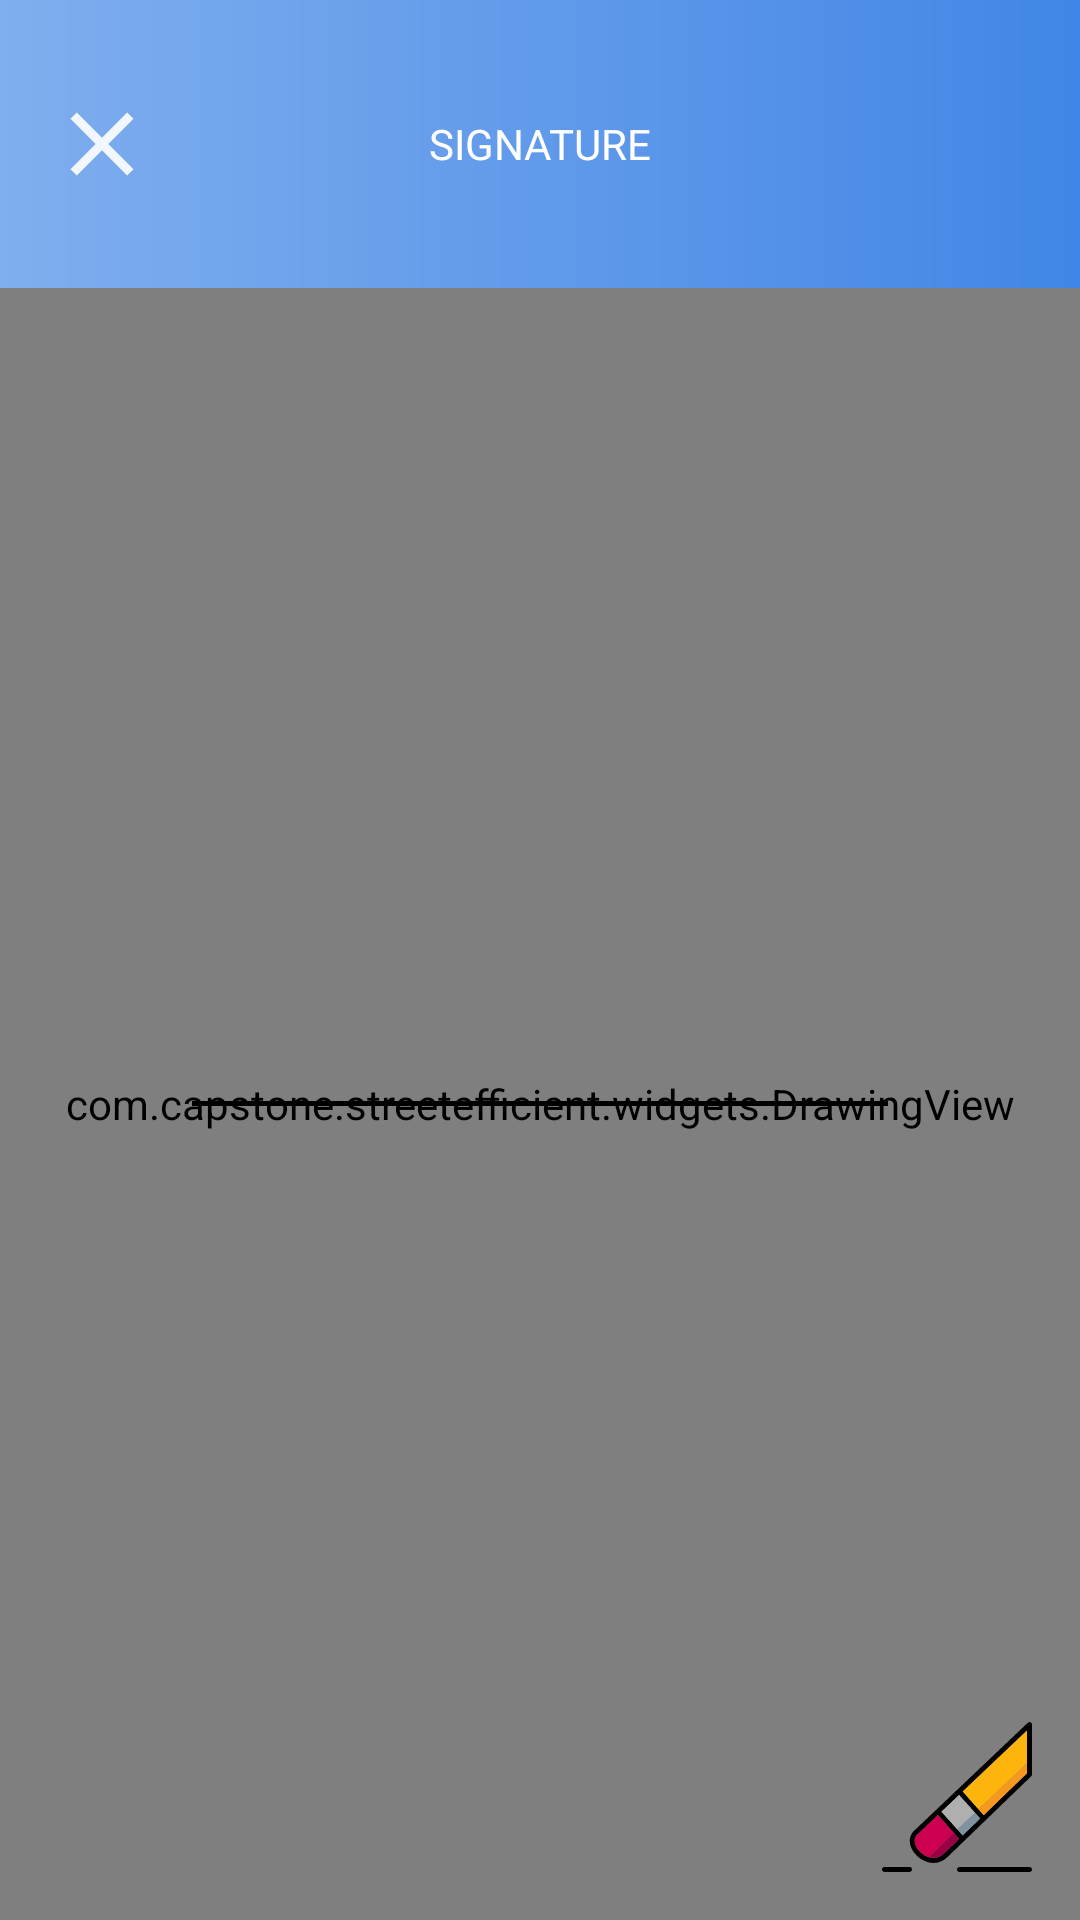

Icon bounding boxes for this 1080x1920 phone screenshot, format bbox=(x1, y1, x2, y2):
clear: bbox=(70, 113, 133, 176)
erase: bbox=(882, 1722, 1032, 1872)
